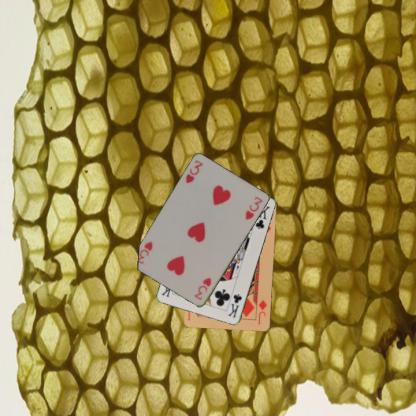3h: (183, 158, 204, 185), (192, 275, 212, 302)
Jd: (255, 297, 269, 326)
Kc: (226, 291, 244, 319)
